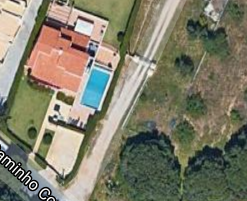pool: (88, 68, 105, 113)
